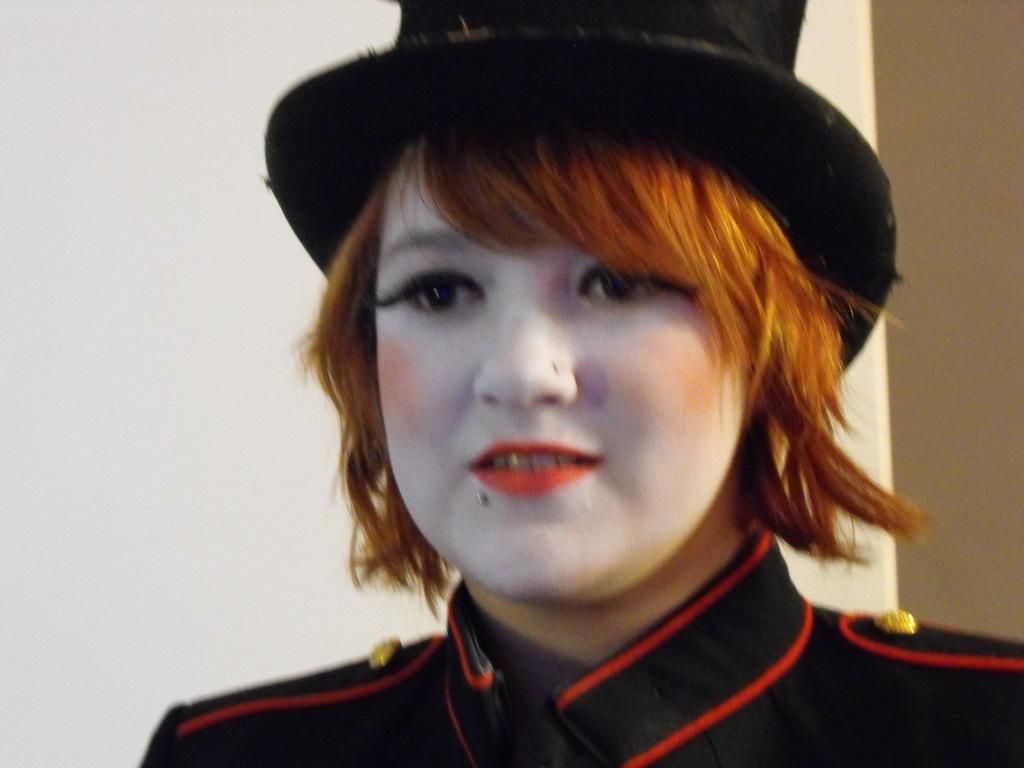Hat: (265, 0, 901, 373)
